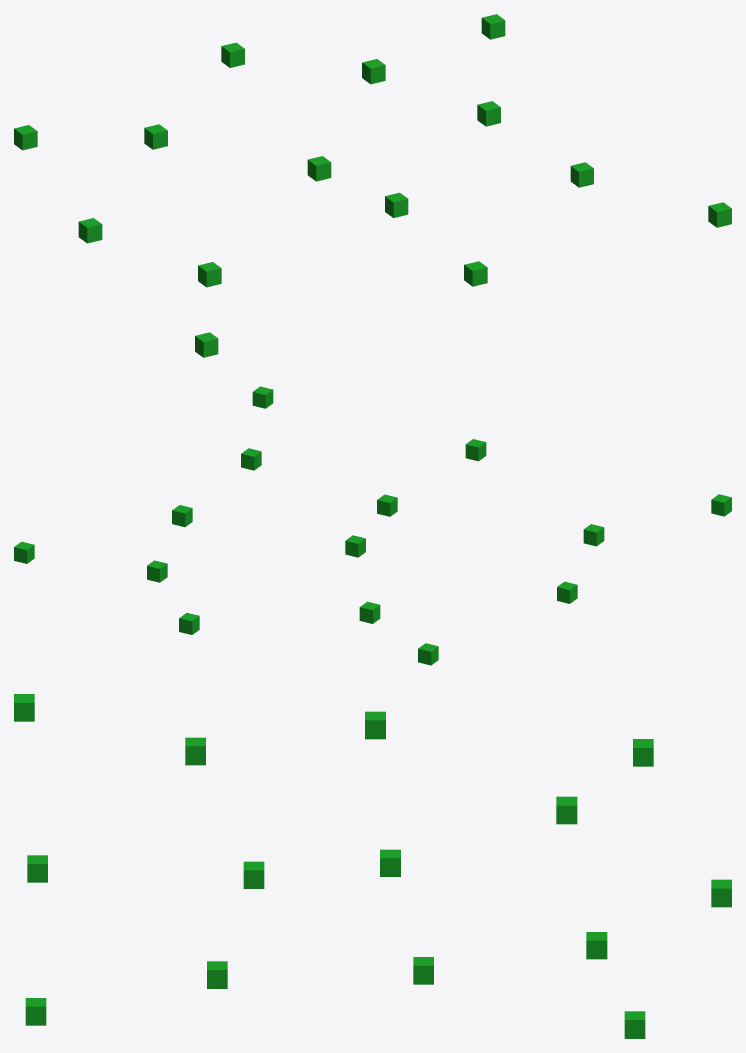
The model's file is Cucumber1.fbx.
3 renders of one model, top to bottom at view 1: azimuth 30°, elevation 25°; view 2: azimuth 150°, elevation 25°; view 3: azimuth 270°, elevation 25°, orthographic. The views are drawn at different scales.
Visible parts, largest first — view 1: 1; view 2: 1; view 3: 1.
Part boxes in pixels (box(x1,y1,x2,y2)): 1: box(14, 14, 731, 357); 1: box(14, 386, 731, 665); 1: box(14, 694, 731, 1038).
Size of the model in its own units: 78.1 by 2.1 by 72.71.
